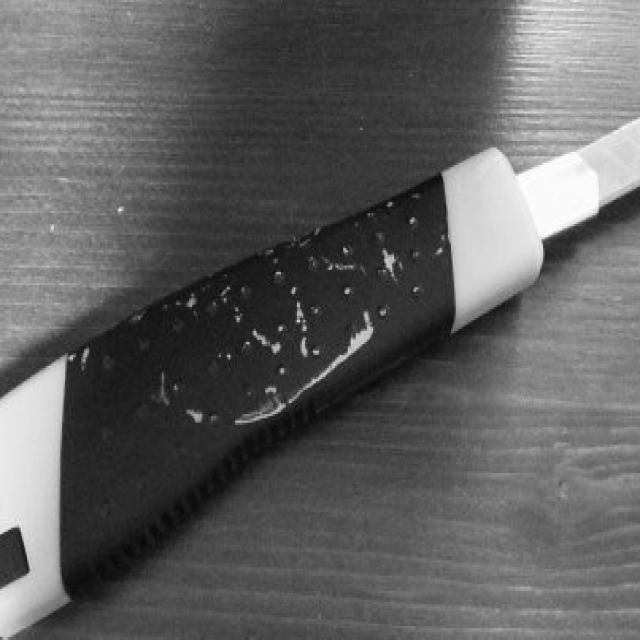estilete: (0, 118, 640, 639)
